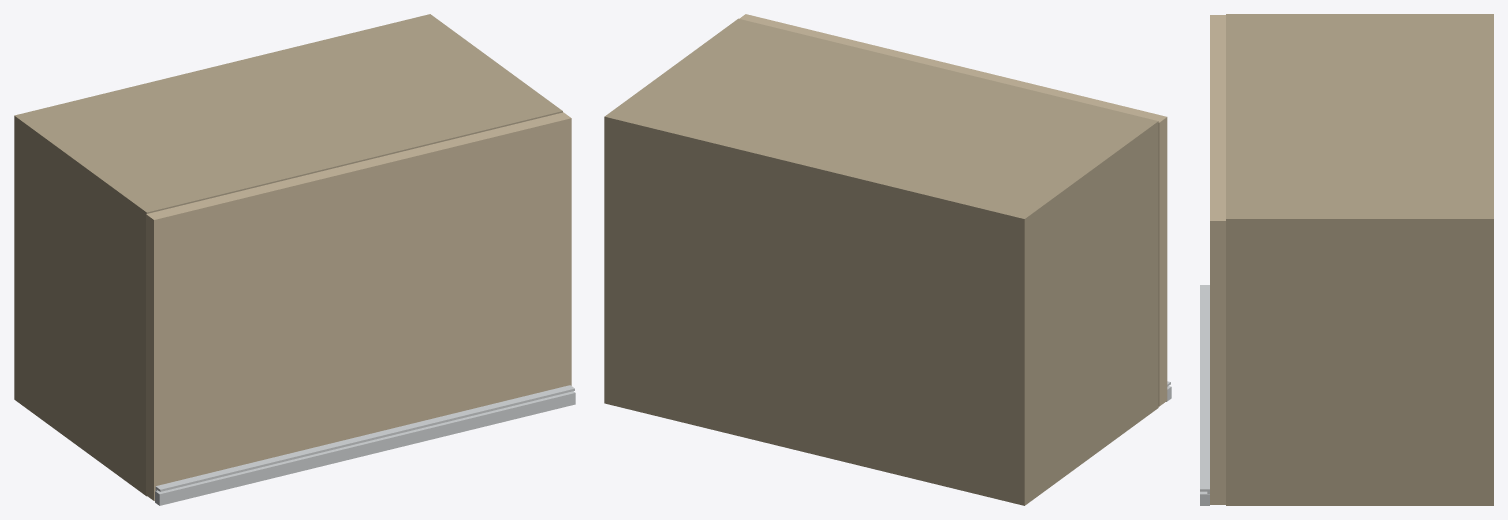
3 views of the same model, side by side, from view 1: azimuth 30°, elevation 25°; view 2: azimuth 150°, elevation 25°; view 3: azimuth 270°, elevation 25° (orthographic).
Visible parts, largest first — view 1: Door, FlushDoor, Carcass, Rail, EdgePull; view 2: Carcass, Door; view 3: Carcass, Door, FlushDoor, EdgePull.
Part boxes in pixels (x1=…): Door: x1=146, y1=112, x2=571, y2=490; FlushDoor: x1=146, y1=119, x2=571, y2=500; Carcass: x1=14, y1=14, x2=562, y2=496; Rail: x1=155, y1=391, x2=575, y2=505; EdgePull: x1=155, y1=385, x2=574, y2=491; Carcass: x1=604, y1=18, x2=1158, y2=505; Door: x1=739, y1=14, x2=1167, y2=397; Carcass: x1=1226, y1=14, x2=1493, y2=505; Door: x1=1210, y1=15, x2=1225, y2=495; FlushDoor: x1=1210, y1=221, x2=1225, y2=504; EdgePull: x1=1200, y1=285, x2=1209, y2=493.
Size of the model in its own units: 0.6 by 0.39 by 0.362.
